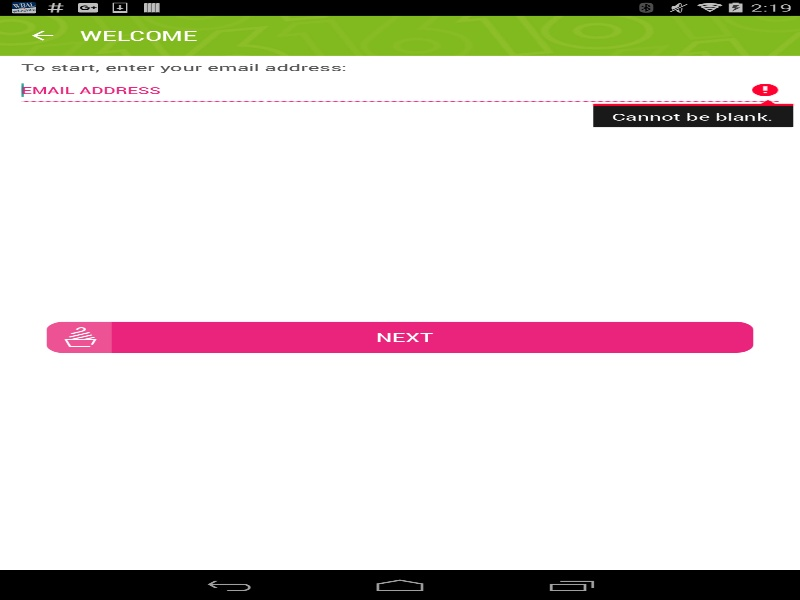Button: (46, 321, 753, 352), (0, 18, 74, 53)
Input: (21, 79, 778, 104)
